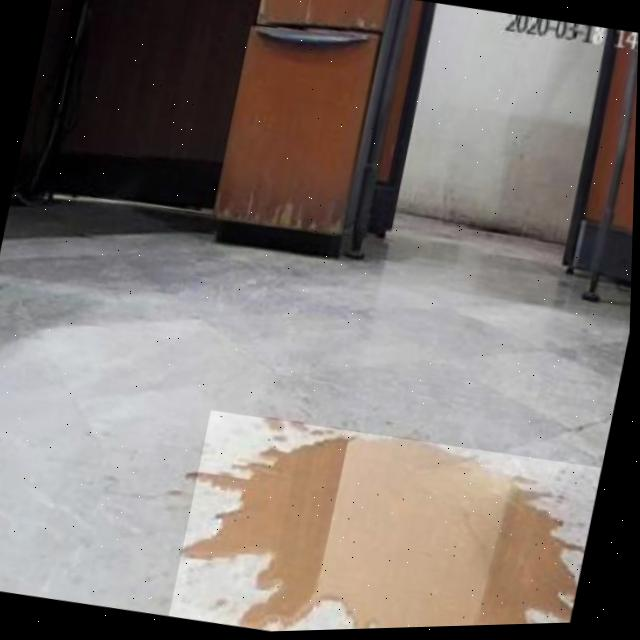spillage: (185, 441, 581, 633)
